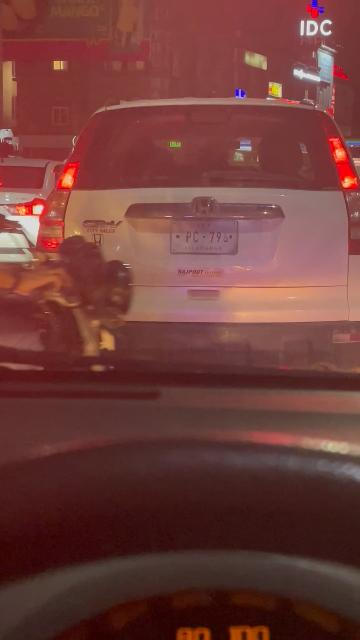plate: (171, 218, 237, 254)
